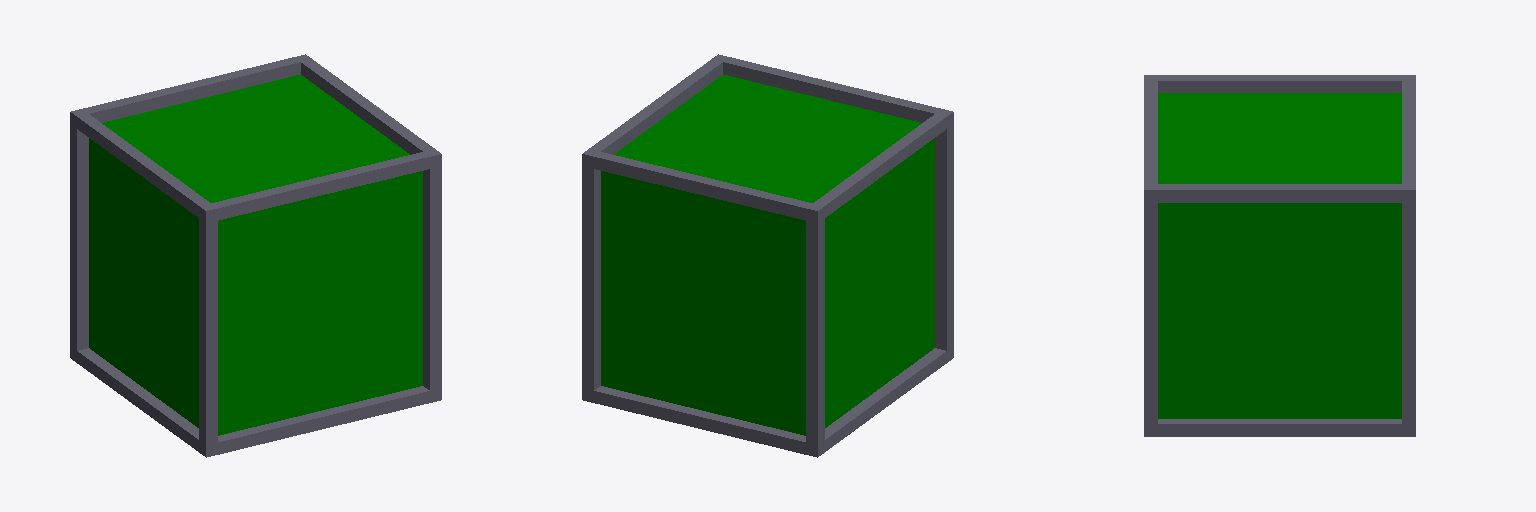
Rendered from concavecube.obj.
3 renders of one model, left to right at view 1: azimuth 30°, elevation 25°; view 2: azimuth 150°, elevation 25°; view 3: azimuth 270°, elevation 25°, orthographic.
Parts seen in each view (by area): view 1: Cube; view 2: Cube; view 3: Cube.
Boxes of the visible parts, box(x1,y1,x2,y2) form: Cube: box(70, 54, 441, 457); Cube: box(582, 54, 953, 457); Cube: box(1144, 75, 1415, 436).
Size of the model in its own units: 2 by 2 by 2.